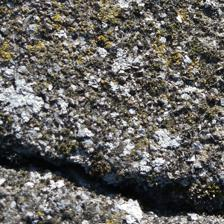Crack: (3, 64, 217, 157)
